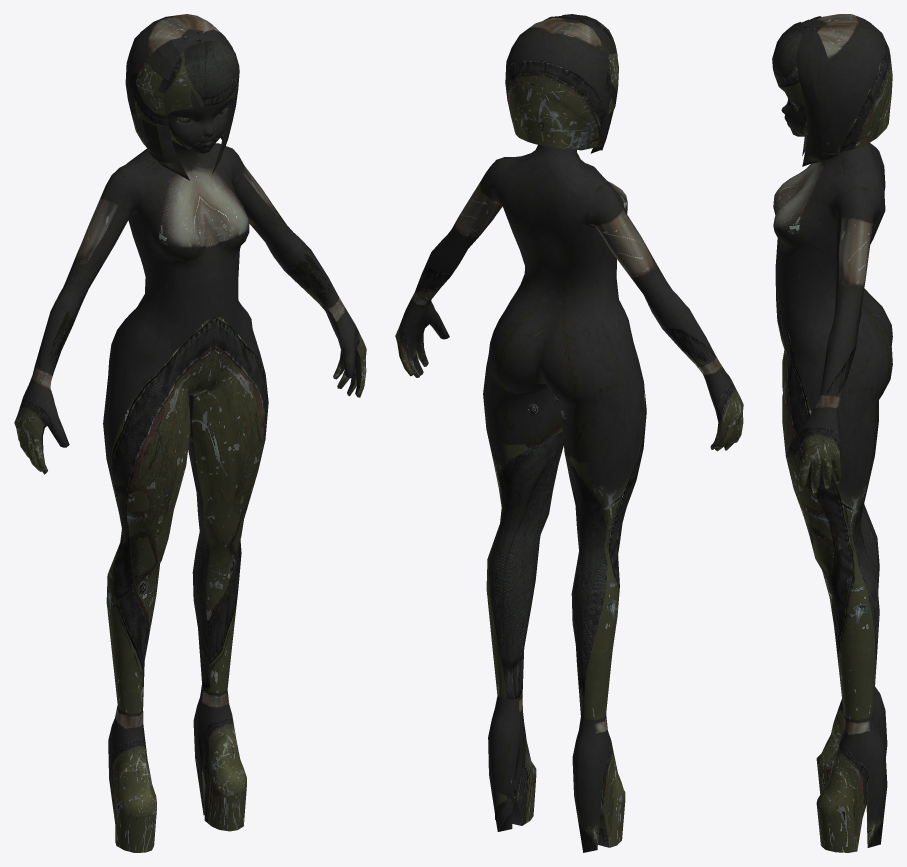
File: SentinelLingerie.obj
The picture shows the model from 3 angles, left to right: view 1: azimuth 30°, elevation 25°; view 2: azimuth 150°, elevation 25°; view 3: azimuth 270°, elevation 25°; orthographic projection.
Parts seen in each view (by area): view 1: SE_Lingerie00_Body, SE_Lingerie00_Feet, SE_Lingerie00_Hair, SE_Lingerie00_Hands, SE_Lingerie00_Head; view 2: SE_Lingerie00_Body, SE_Lingerie00_Hair, SE_Lingerie00_Feet, SE_Lingerie00_Hands; view 3: SE_Lingerie00_Body, SE_Lingerie00_Hair, SE_Lingerie00_Feet, SE_Lingerie00_Hands, SE_Lingerie00_Head.
Boxes of the visible parts, bbox=[...] form: SE_Lingerie00_Body: bbox=[35, 139, 337, 713]; SE_Lingerie00_Feet: bbox=[108, 684, 246, 852]; SE_Lingerie00_Hair: bbox=[125, 14, 239, 180]; SE_Lingerie00_Hands: bbox=[14, 295, 366, 474]; SE_Lingerie00_Head: bbox=[168, 89, 230, 153]; SE_Lingerie00_Body: bbox=[415, 145, 715, 719]; SE_Lingerie00_Hair: bbox=[505, 14, 618, 153]; SE_Lingerie00_Feet: bbox=[488, 695, 625, 852]; SE_Lingerie00_Hands: bbox=[395, 288, 743, 451]; SE_Lingerie00_Body: bbox=[773, 143, 892, 719]; SE_Lingerie00_Hair: bbox=[772, 14, 892, 166]; SE_Lingerie00_Feet: bbox=[816, 687, 887, 852]; SE_Lingerie00_Hands: bbox=[785, 392, 841, 493]; SE_Lingerie00_Head: bbox=[781, 92, 807, 136].
Size of the model in its own units: 2 by 4.5 by 0.6135.
